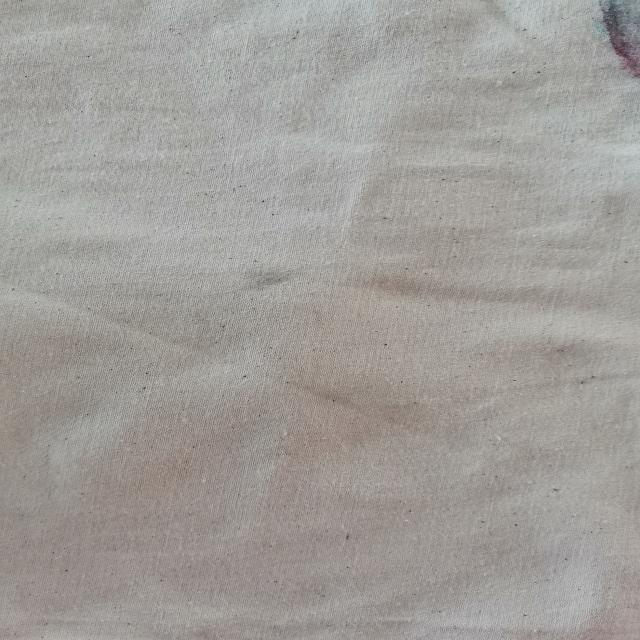taaaches: (578, 0, 640, 80), (233, 262, 311, 296)
